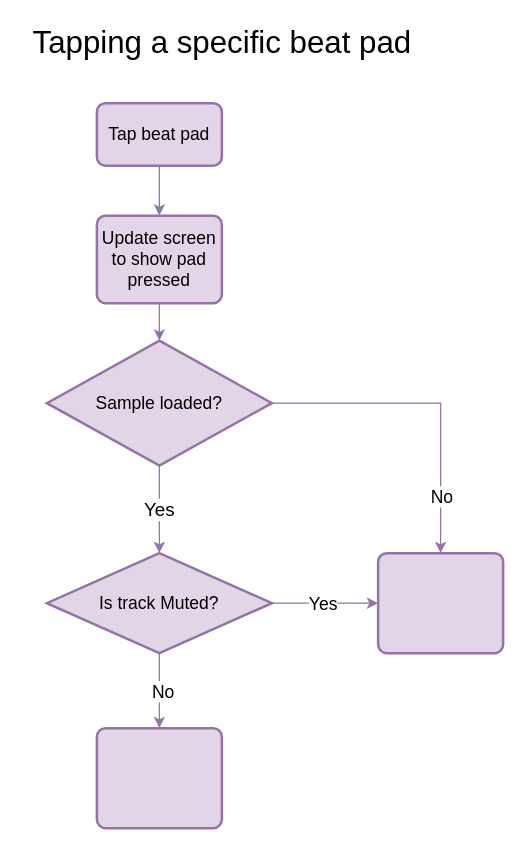
This 525x850 diagram has some shape labels left out. The centre of each missing label's shape, as x and y in pixels:
Play nothing: the point at 440,602
Play sample: the point at 158,777
